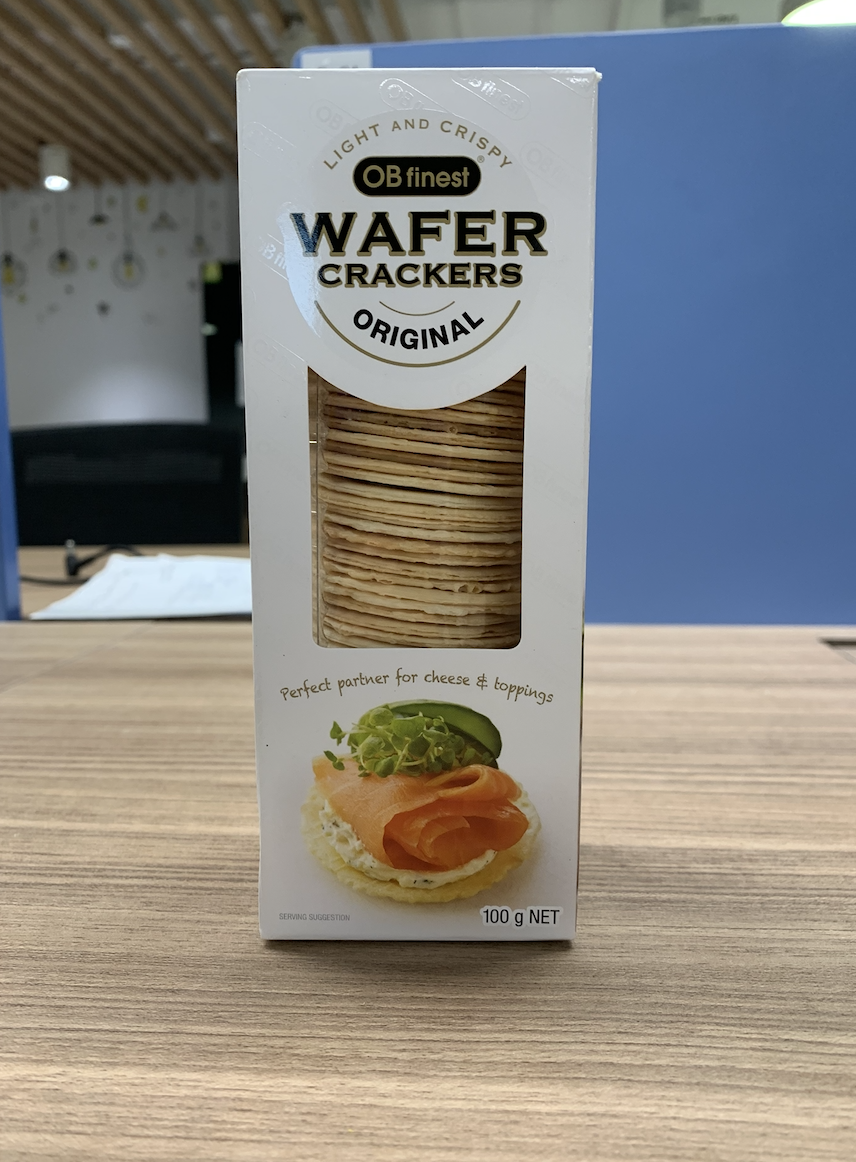crackers_150g: (265, 89, 572, 935)
